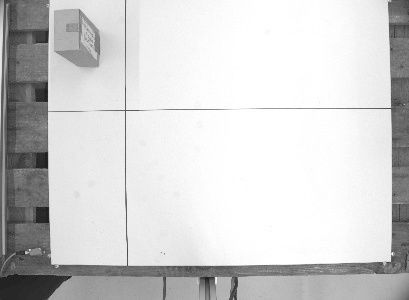b6: (48, 6, 103, 70)
